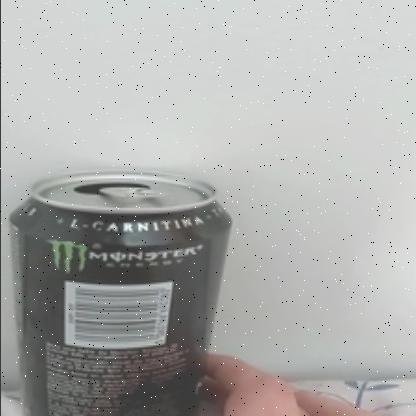Can: (6, 171, 232, 416)
